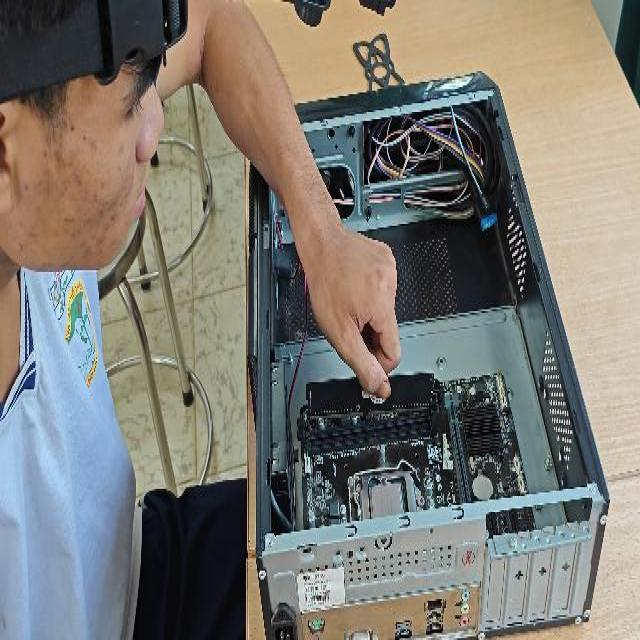CPU: (369, 479, 408, 520)
Mainboard: (300, 372, 538, 546)
RAM: (305, 372, 434, 424)
